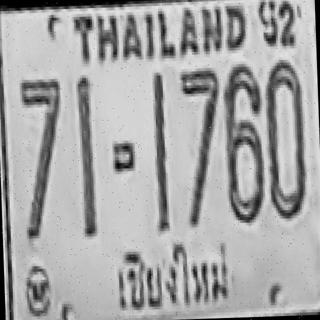N00: (263, 59, 307, 218)
N01: (76, 76, 96, 213), (151, 72, 168, 206)
N06: (221, 63, 265, 223)
N07: (19, 76, 65, 236), (179, 66, 222, 218), (19, 76, 64, 216), (179, 66, 221, 176), (179, 66, 220, 165)
P11: (114, 238, 234, 310)
